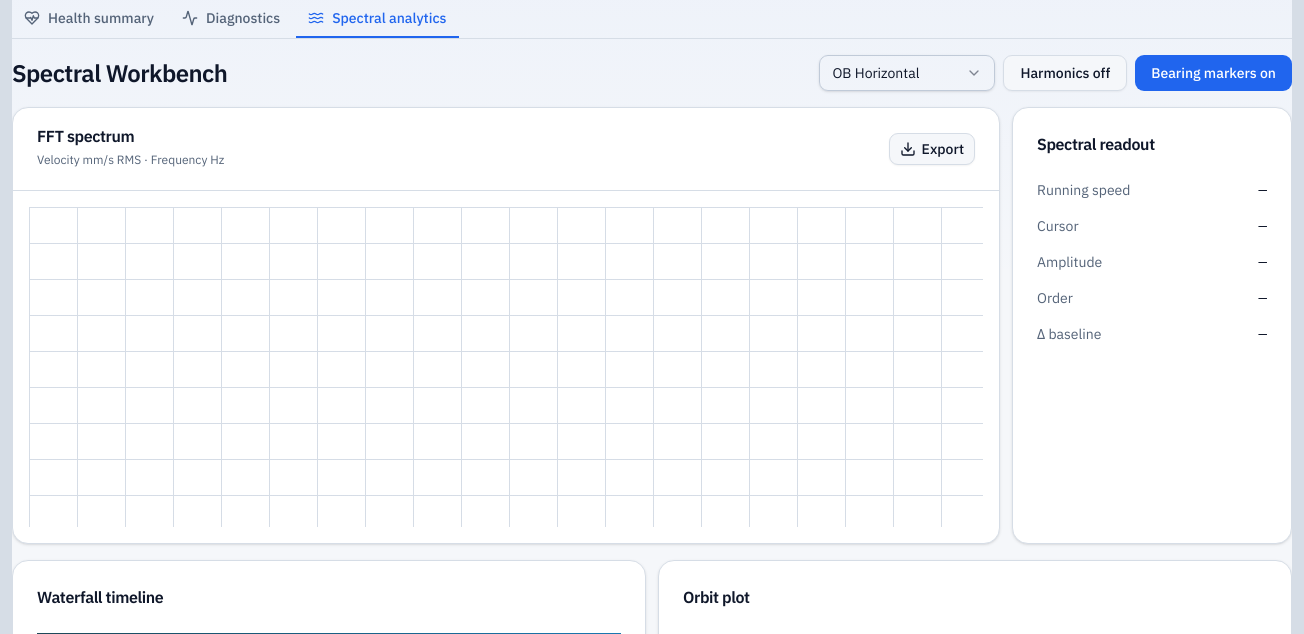
Test: workspace branch coverage › toggles the spectral overlay controls
This screenshot has width=1304, height=634.
Click the button "Harmonics off": [1065, 73] box 1003,55 -> 1127,91
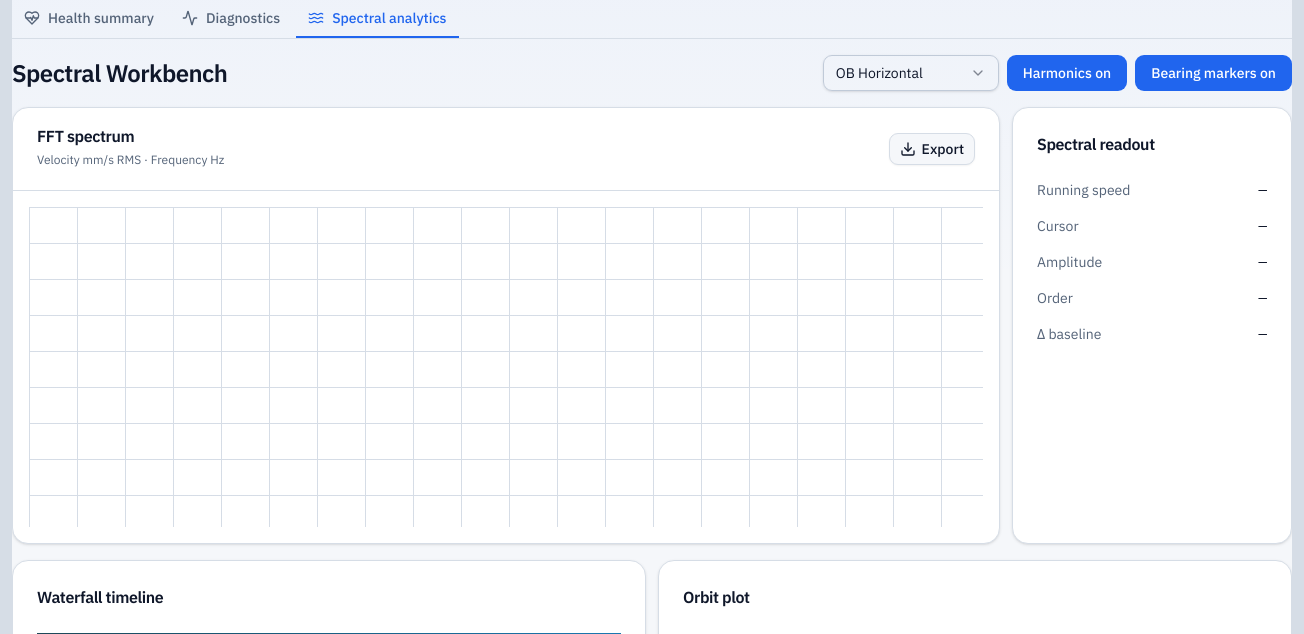
Check: the button "Harmonics on" is shown, box 1007,55 -> 1127,91
Click the button "Bearing markers on": [1214, 73] box 1135,55 -> 1292,91
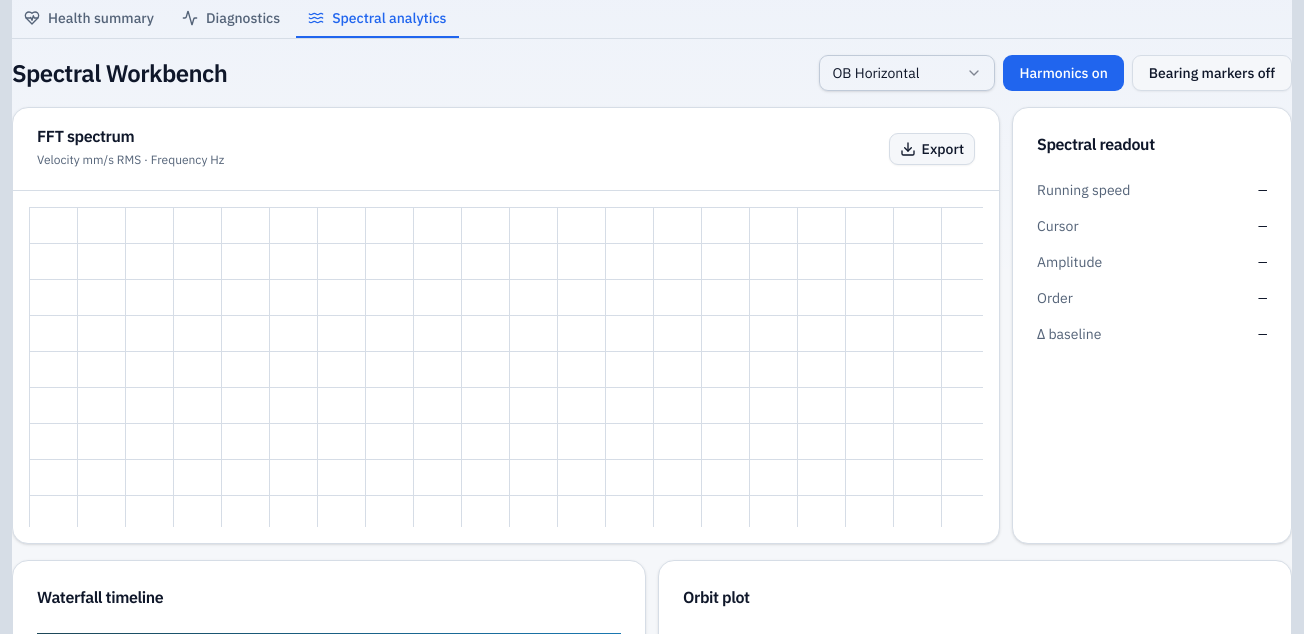
Check: the button "Bearing markers off" is shown, box 1132,55 -> 1292,91
